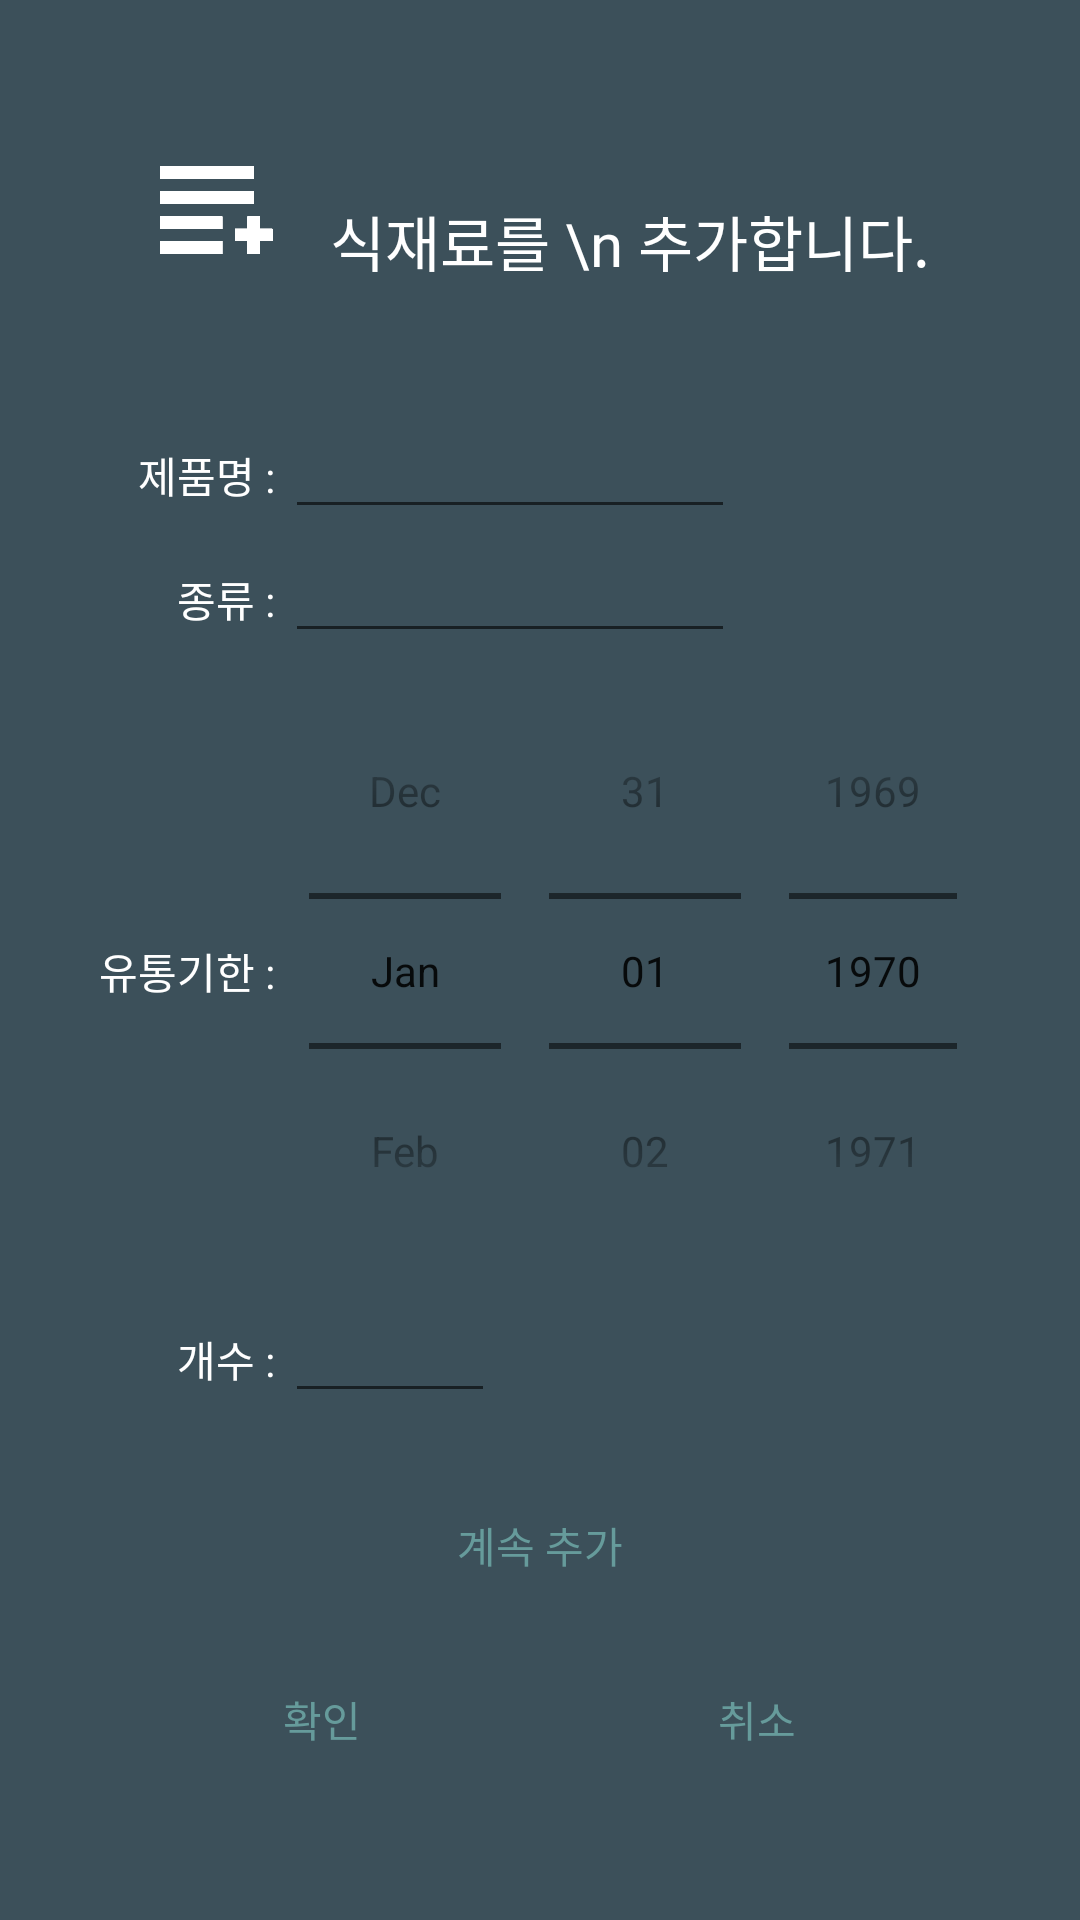

Named icons in this screenshot (1080x1920) and their bounding boxes, region(x1, y1, x2, y2):
list add: region(160, 166, 273, 254)
